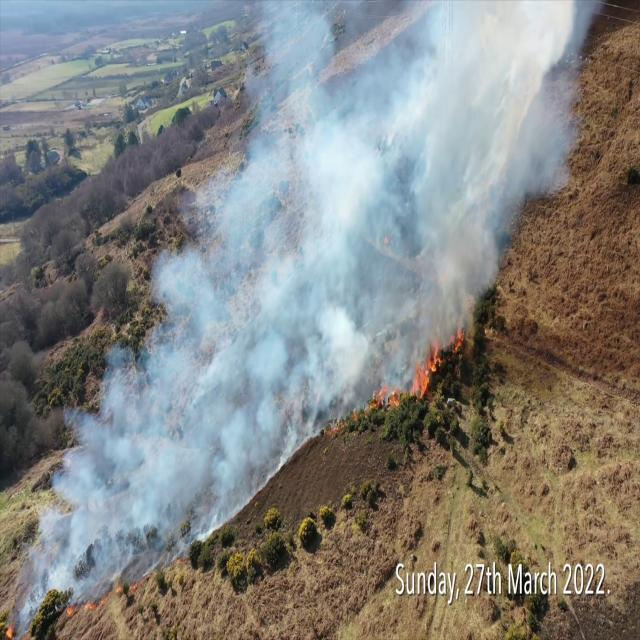Fire: (413, 362, 430, 410)
Smoke: (391, 8, 574, 342), (152, 244, 288, 539), (304, 303, 369, 436)
